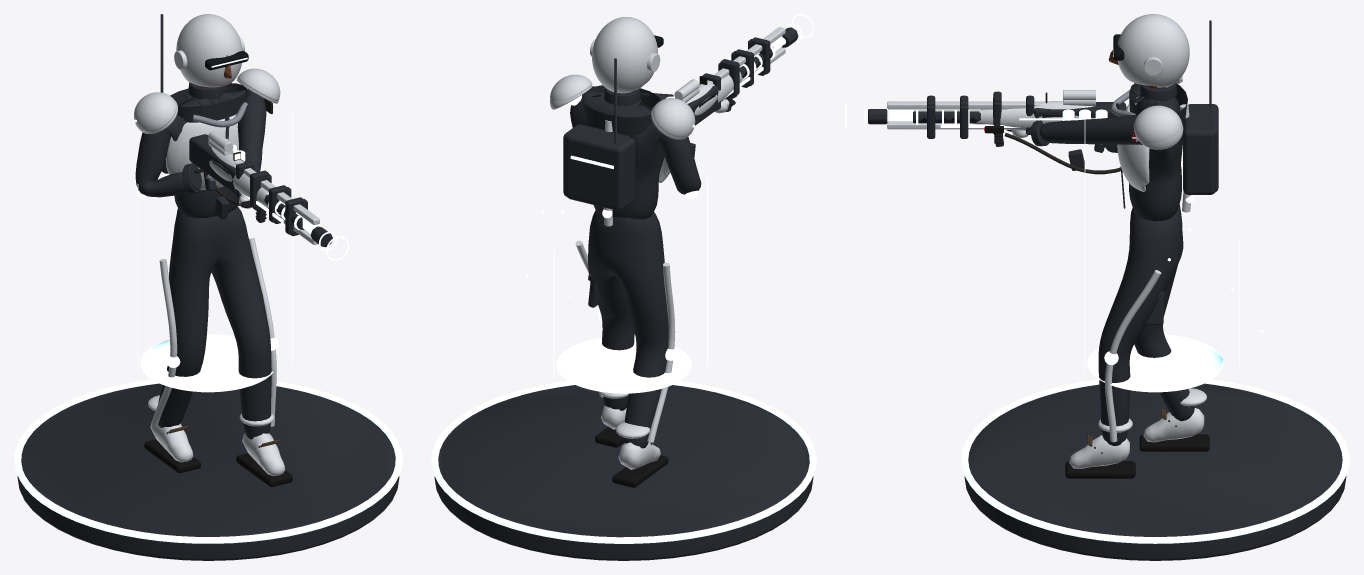
File: skinne_krom.glb
3 renders of one model, left to right at view 1: azimuth 30°, elevation 25°; view 2: azimuth 150°, elevation 25°; view 3: azimuth 270°, elevation 25°, orthographic.
Parts seen in each view (by area): view 1: fod_net, menneske_net, op4.002_net, hoved_net, vaaben_net, op3.001_net, op4_net, op2_net, op1_net, op2.001_net, ned1_net, op3_net (+1 smaller); view 2: fod_net, menneske_net, op4_net, op4.002_net, hoved_net, op3.001_net, vaaben_net, op1_net, ned4_net, ned1_net, op2.001_net, op4.001_net; view 3: fod_net, menneske_net, op4.002_net, hoved_net, vaaben_net, ned4_net, op4_net, op3.001_net, op2_net, op1_net, op2.001_net, op3_net (+1 smaller).
Boxes of the visible parts, x1=… form: fod_net: x1=14, y1=379, x2=402, y2=560; menneske_net: x1=135, y1=82, x2=292, y2=486; op4.002_net: x1=134, y1=109, x2=293, y2=392; hoved_net: x1=174, y1=14, x2=248, y2=87; vaaben_net: x1=189, y1=134, x2=319, y2=244; op3.001_net: x1=134, y1=14, x2=280, y2=132; op4_net: x1=137, y1=88, x2=278, y2=426; op2_net: x1=165, y1=102, x2=279, y2=445; op1_net: x1=208, y1=131, x2=304, y2=234; op2.001_net: x1=209, y1=147, x2=266, y2=222; ned1_net: x1=208, y1=140, x2=307, y2=236; op3_net: x1=264, y1=194, x2=332, y2=247; fod_net: x1=431, y1=381, x2=816, y2=560; menneske_net: x1=570, y1=85, x2=735, y2=487; op4_net: x1=566, y1=95, x2=697, y2=442; op4.002_net: x1=525, y1=125, x2=707, y2=393; hoved_net: x1=590, y1=17, x2=663, y2=93; op3.001_net: x1=550, y1=58, x2=695, y2=144; vaaben_net: x1=665, y1=27, x2=785, y2=125; op1_net: x1=674, y1=37, x2=770, y2=99; ned4_net: x1=563, y1=124, x2=630, y2=196; ned1_net: x1=675, y1=39, x2=764, y2=102; op2.001_net: x1=686, y1=76, x2=732, y2=157; op4.001_net: x1=723, y1=14, x2=814, y2=99; fod_net: x1=961, y1=379, x2=1349, y2=560; menneske_net: x1=1006, y1=83, x2=1209, y2=478; op4.002_net: x1=1084, y1=120, x2=1263, y2=392; hoved_net: x1=1108, y1=14, x2=1189, y2=87; vaaben_net: x1=887, y1=95, x2=1126, y2=152; ned4_net: x1=1183, y1=106, x2=1215, y2=194; op4_net: x1=1104, y1=104, x2=1219, y2=442; op3.001_net: x1=1133, y1=20, x2=1211, y2=143; op2_net: x1=1087, y1=89, x2=1163, y2=443; op1_net: x1=927, y1=90, x2=1120, y2=174; op2.001_net: x1=984, y1=92, x2=1095, y2=170; op3_net: x1=868, y1=109, x2=980, y2=124.
Size of the model in its own units: 1.94 by 2.56 by 2.51.
